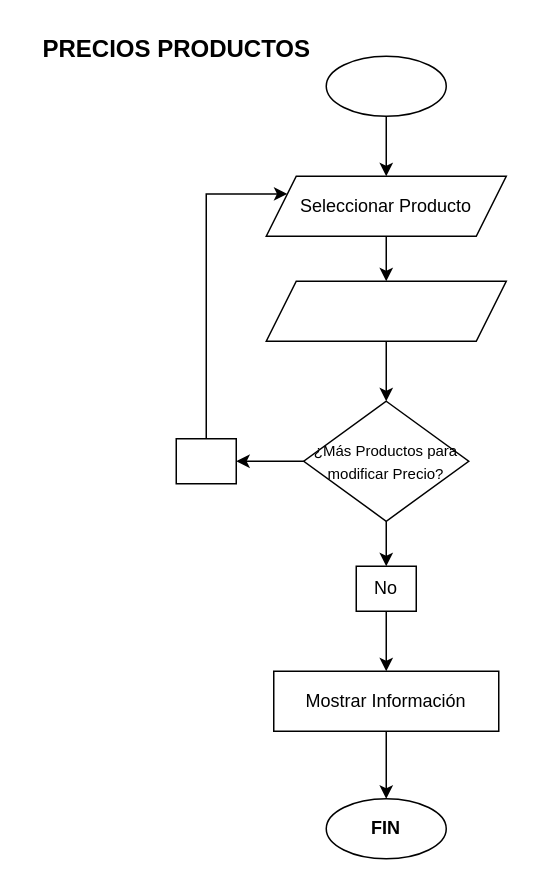
This 533x885 diagram has some shape labels left out. Each missing label, with the box of its shape:
INICIO: (325, 55, 446, 116)
Modificar Precio: (265, 280, 506, 341)
Sí: (175, 437, 236, 484)
